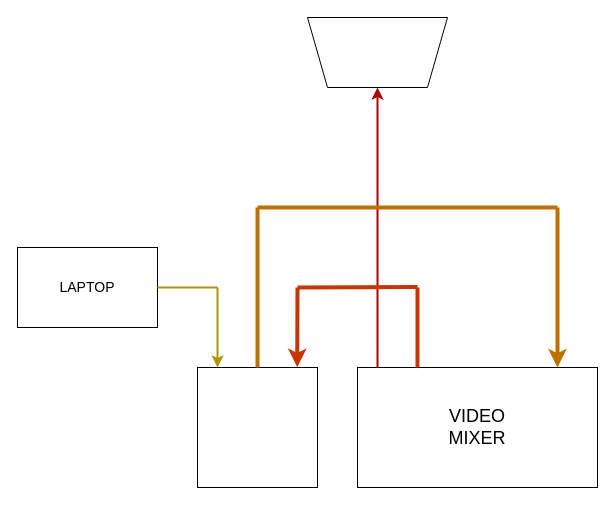
This 615x505 diagram has some shape labels left out. The shapes that lost their labels are listed below. From the top down, each one's centre as x and y in pixels, then its label:
point 377,52: MONITOR
point 257,427: GLITCH MIXER
